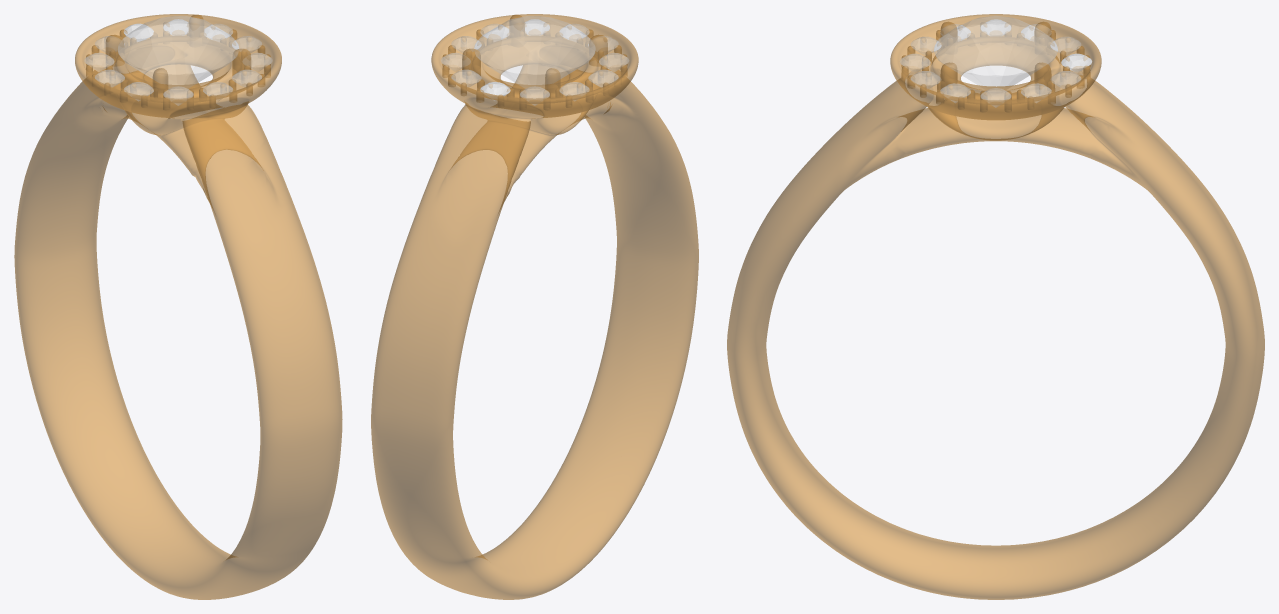
3 views of the same model, side by side, from view 1: azimuth 30°, elevation 25°; view 2: azimuth 150°, elevation 25°; view 3: azimuth 270°, elevation 25° (orthographic). The views are drawn at different scales.
Visible parts, largest first — view 1: VR404; view 2: VR404; view 3: VR404.
Part boxes in pixels (<box>): VR404: <box>14,14,342,599</box>; VR404: <box>371,14,698,599</box>; VR404: <box>727,14,1264,599</box>.
Bounding box in the file's own units: 0.904 × 2.64 × 2.3.
